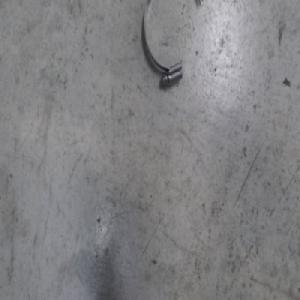AdjustableClamp: (141, 0, 199, 86)
